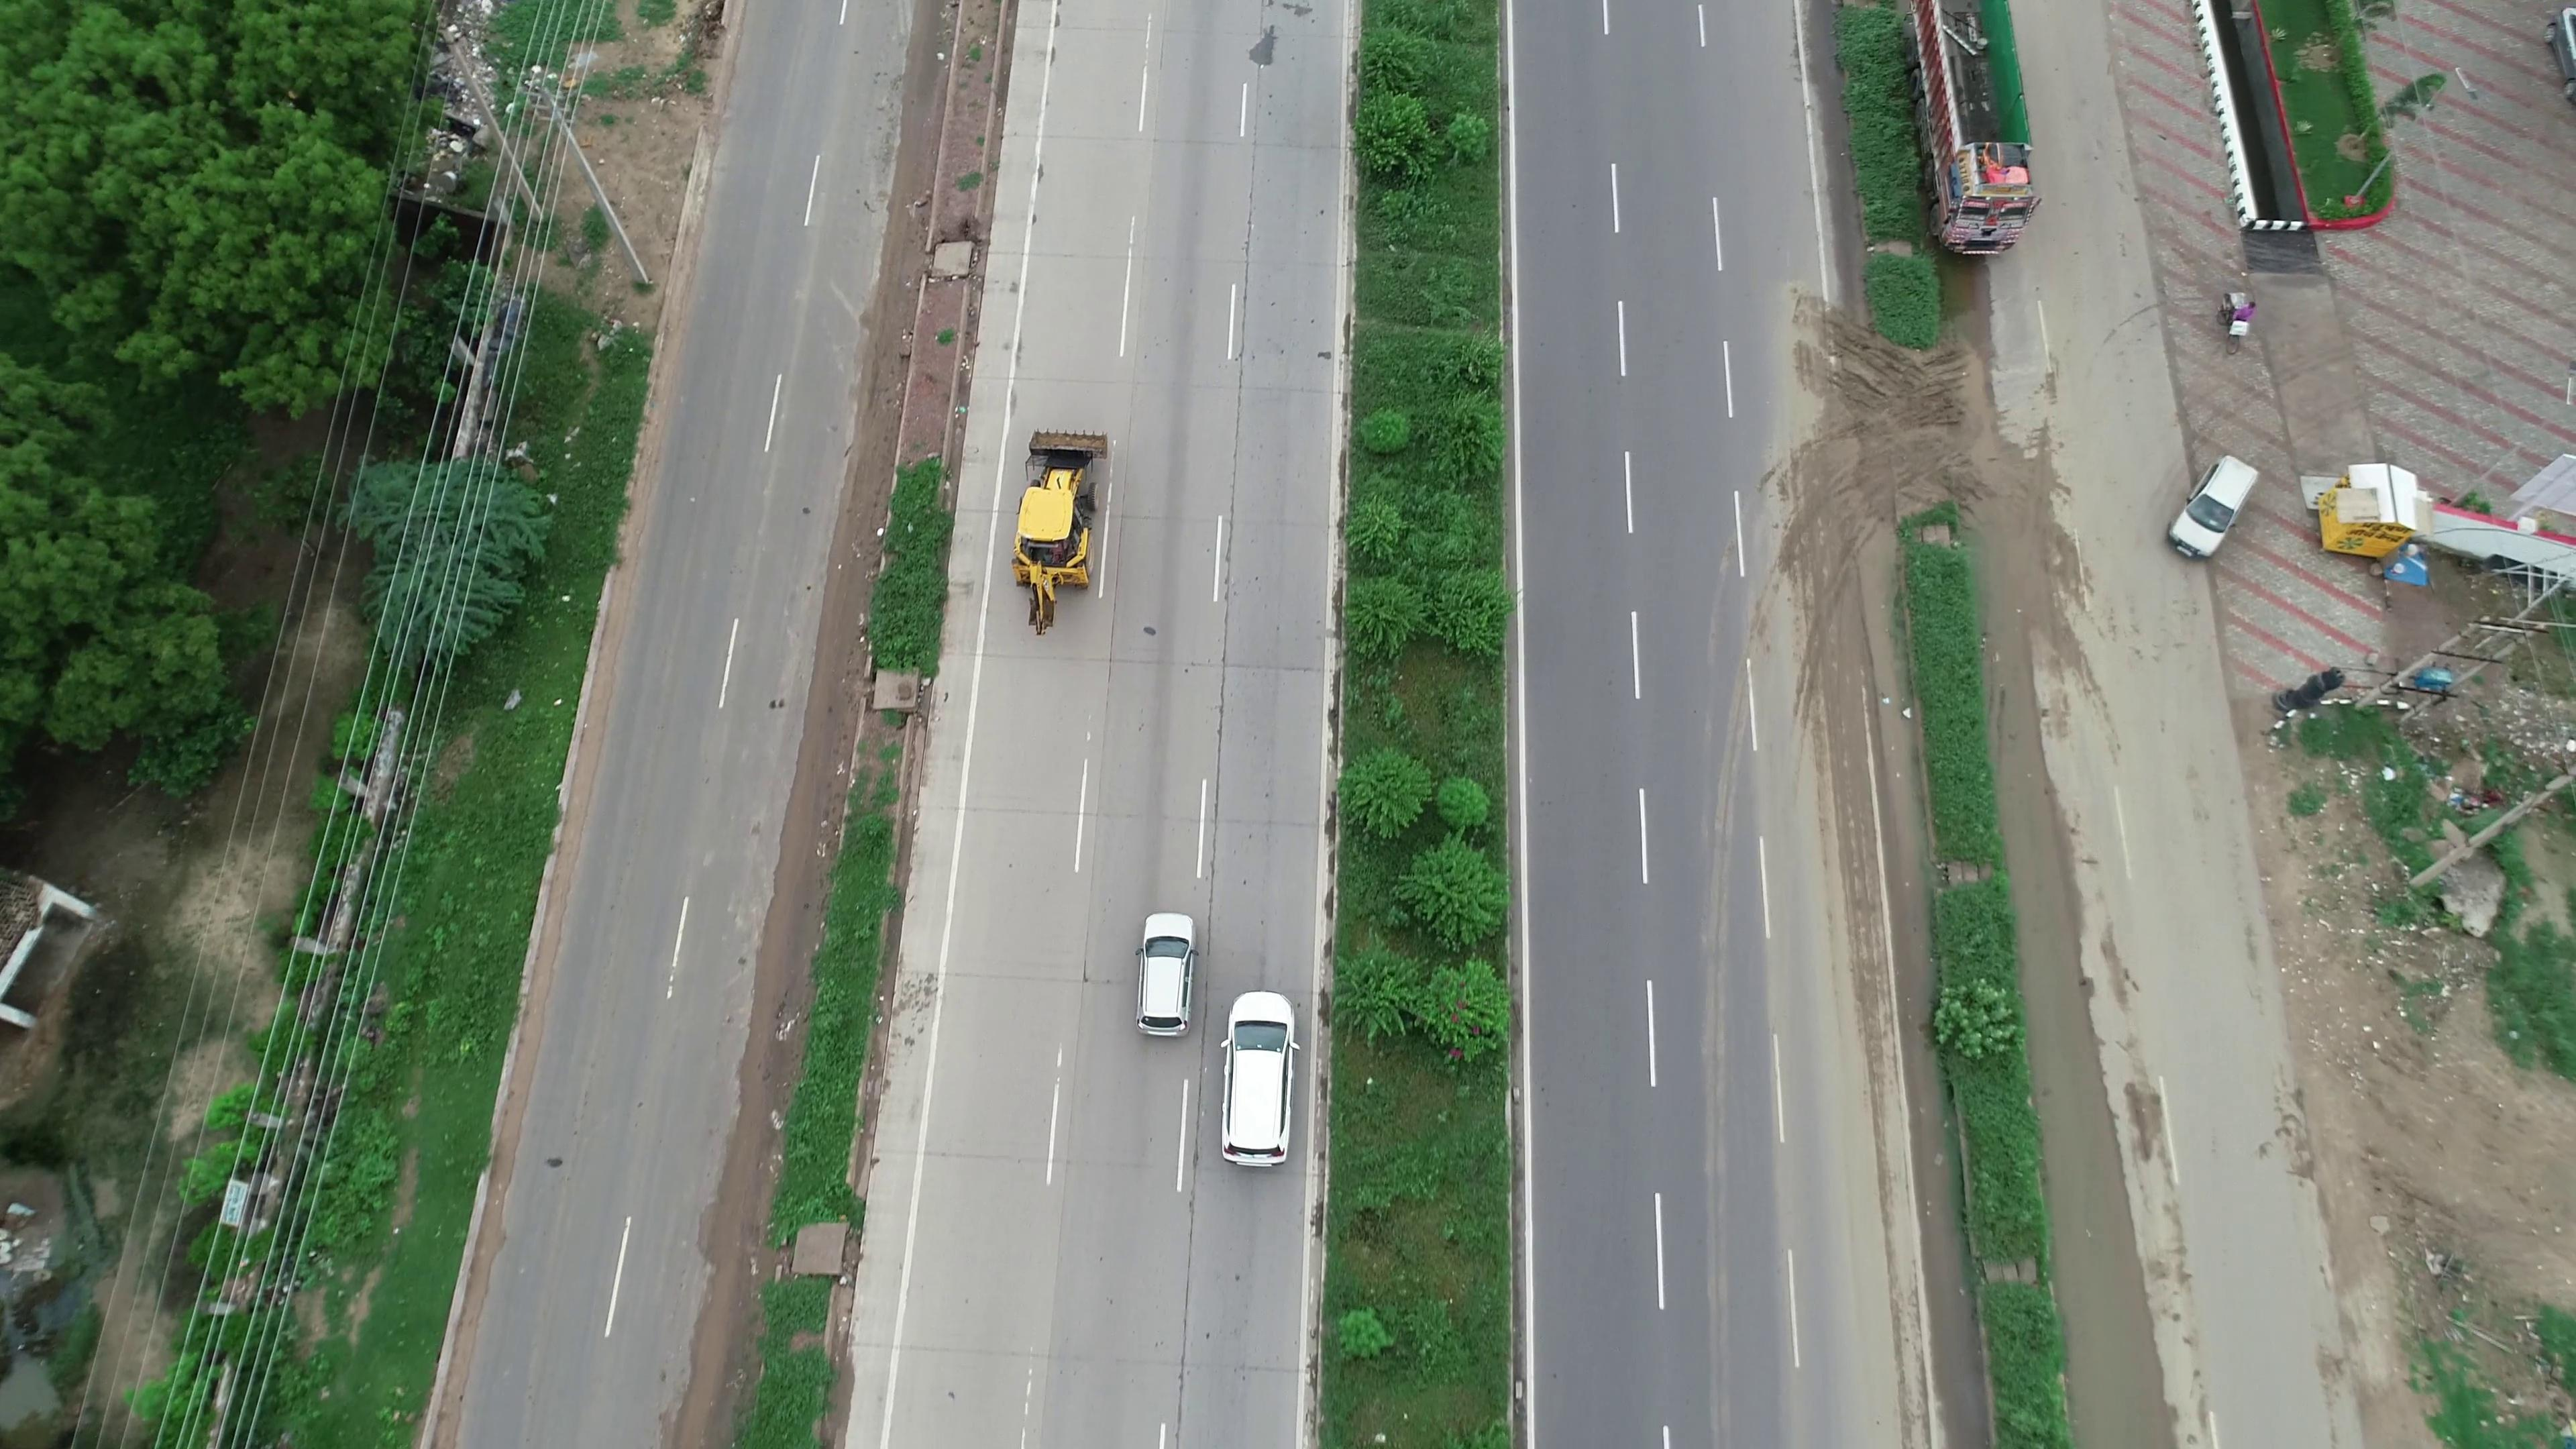Muddy_road: (805, 117, 936, 497), (1946, 350, 2095, 669), (1752, 287, 1888, 559)
